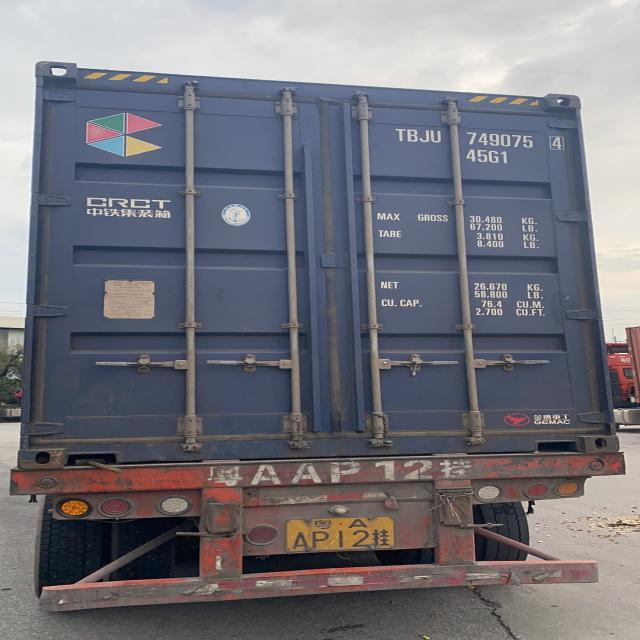ISO: (468, 150, 508, 166)
container_number: (398, 130, 564, 150)
